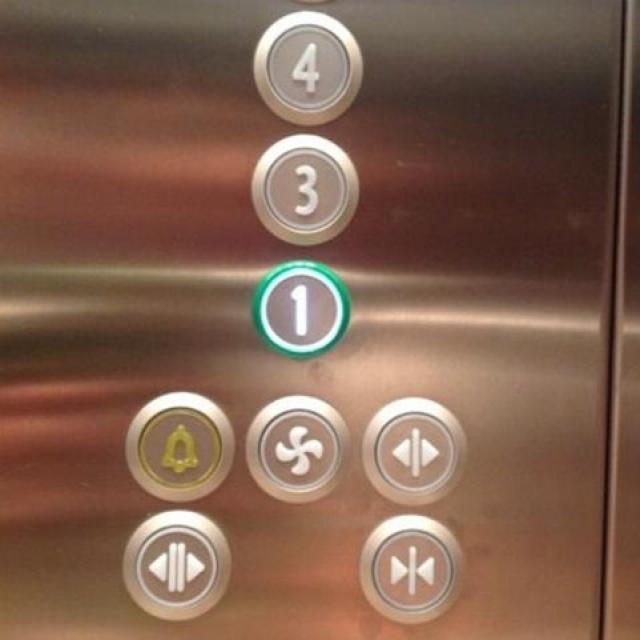1: (245, 254, 355, 362)
3: (248, 132, 364, 248)
4: (249, 7, 366, 128)
alarm: (124, 389, 234, 503)
close: (355, 511, 466, 626)
fan: (242, 390, 353, 506)
open: (120, 507, 236, 622), (358, 389, 468, 507)
